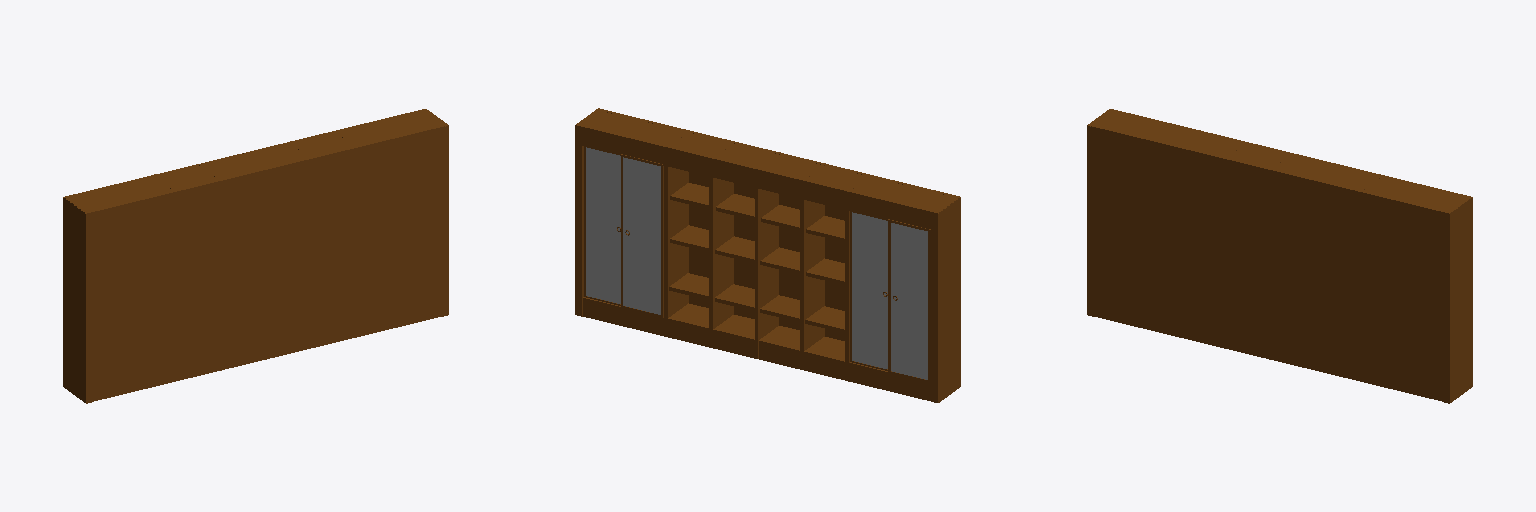
Rendered from cabinet.obj.
3 views of the same model, side by side, from view 1: azimuth 30°, elevation 25°; view 2: azimuth 150°, elevation 25°; view 3: azimuth 330°, elevation 25° (orthographic).
Parts seen in each view (by area): view 1: back_Cube.002; view 2: back_Cube.002; view 3: back_Cube.002.
Part boxes in pixels (x1,y1,x2,y2): back_Cube.002: (63, 109, 448, 403); back_Cube.002: (575, 108, 960, 402); back_Cube.002: (1087, 109, 1472, 403).
Size of the model in its own units: 20.02 by 10.02 by 2.26.